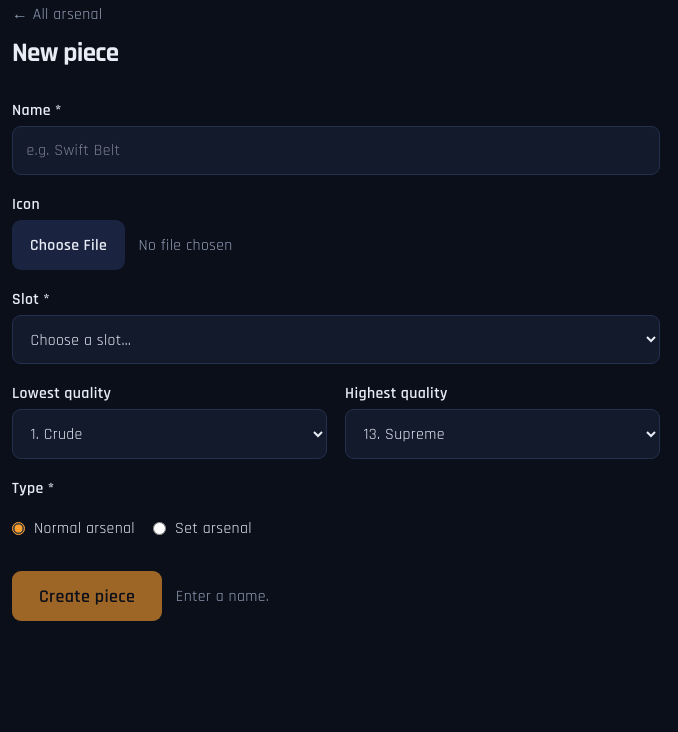
Test: ArsenalPieceFormPage › explains why Create is disabled, step by step
Check: the button "Create piece" is disabled, box x1=12 y1=572 x2=162 y2=621
Check: the text "Enter a name." is shown, box x1=176 y1=585 x2=269 y2=608
Type "Swift Belt" into the field labelled "Name *".
click(336, 151); type("Swift Belt")  # box x1=12 y1=126 x2=660 y2=176
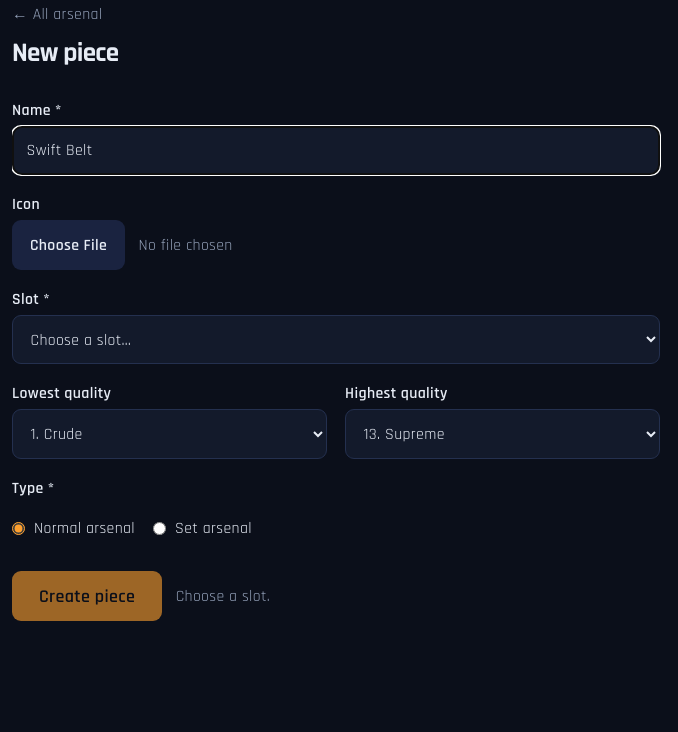
Check: the text "Choose a slot." is shown, box x1=176 y1=585 x2=270 y2=608
Select "Belt" in the dropdown labelled "Slot *" at (336, 340), box x1=12 y1=315 x2=660 y2=364
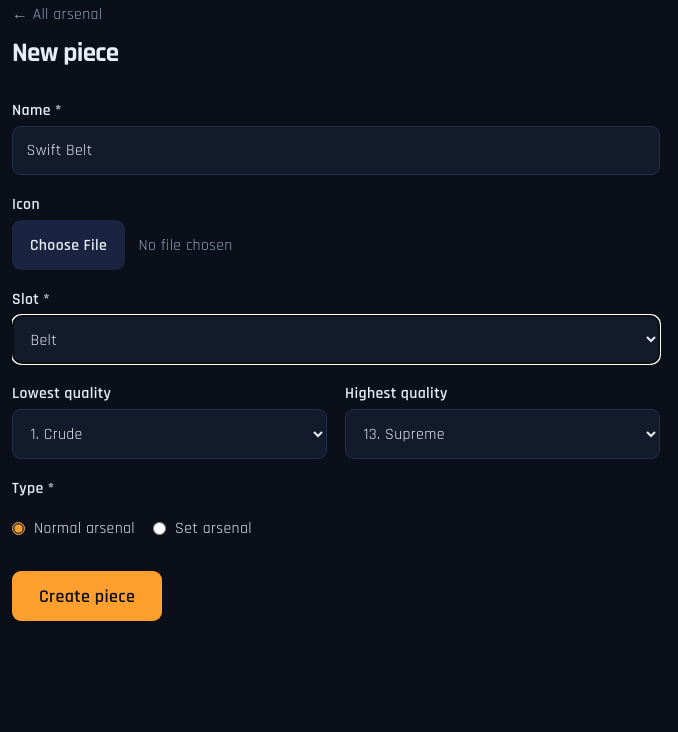
Click the radio button labelled "Set arsenal".
click(160, 529)  # box x1=153 y1=522 x2=166 y2=535
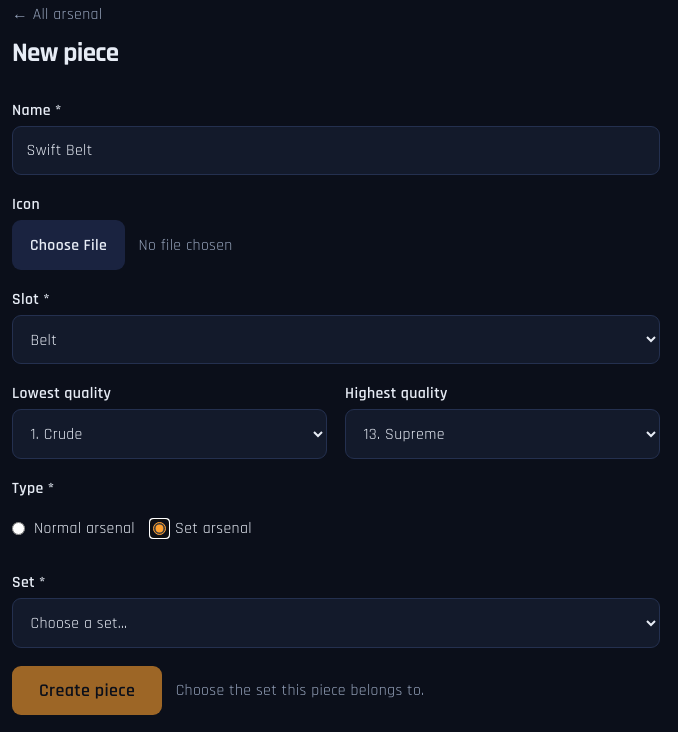
Check: the text "Choose the set this piece belongs to." is shown, box x1=176 y1=680 x2=424 y2=702
Check: the button "Create piece" is disabled, box x1=12 y1=666 x2=162 y2=716
Select "Swift Set" in the dropdown labelled "Set *" at (336, 623), box x1=12 y1=598 x2=660 y2=648
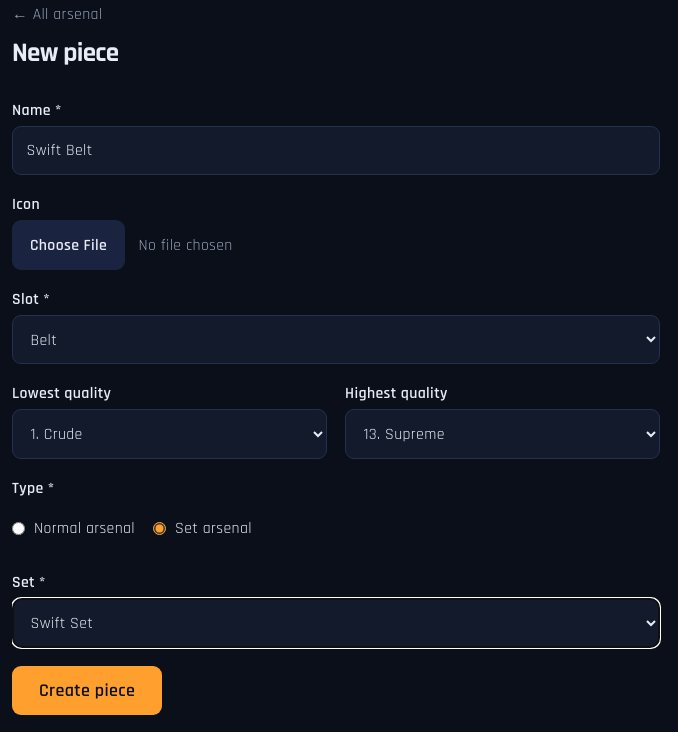
Check: the button "Create piece" is enabled, box x1=12 y1=666 x2=162 y2=716
